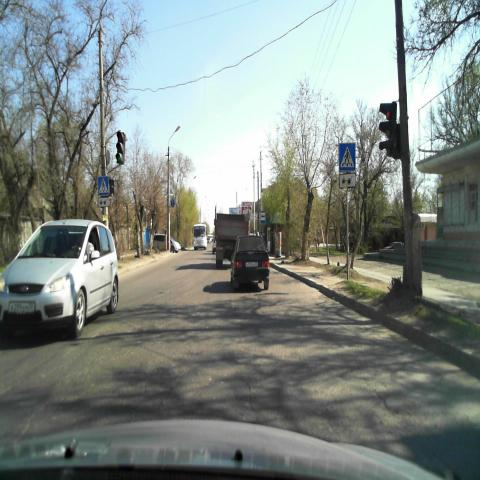8_15: (340, 173, 356, 189), (98, 197, 110, 207)
